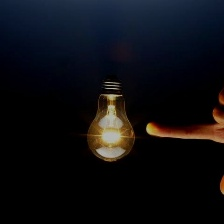light_bulb: (84, 68, 137, 164)
